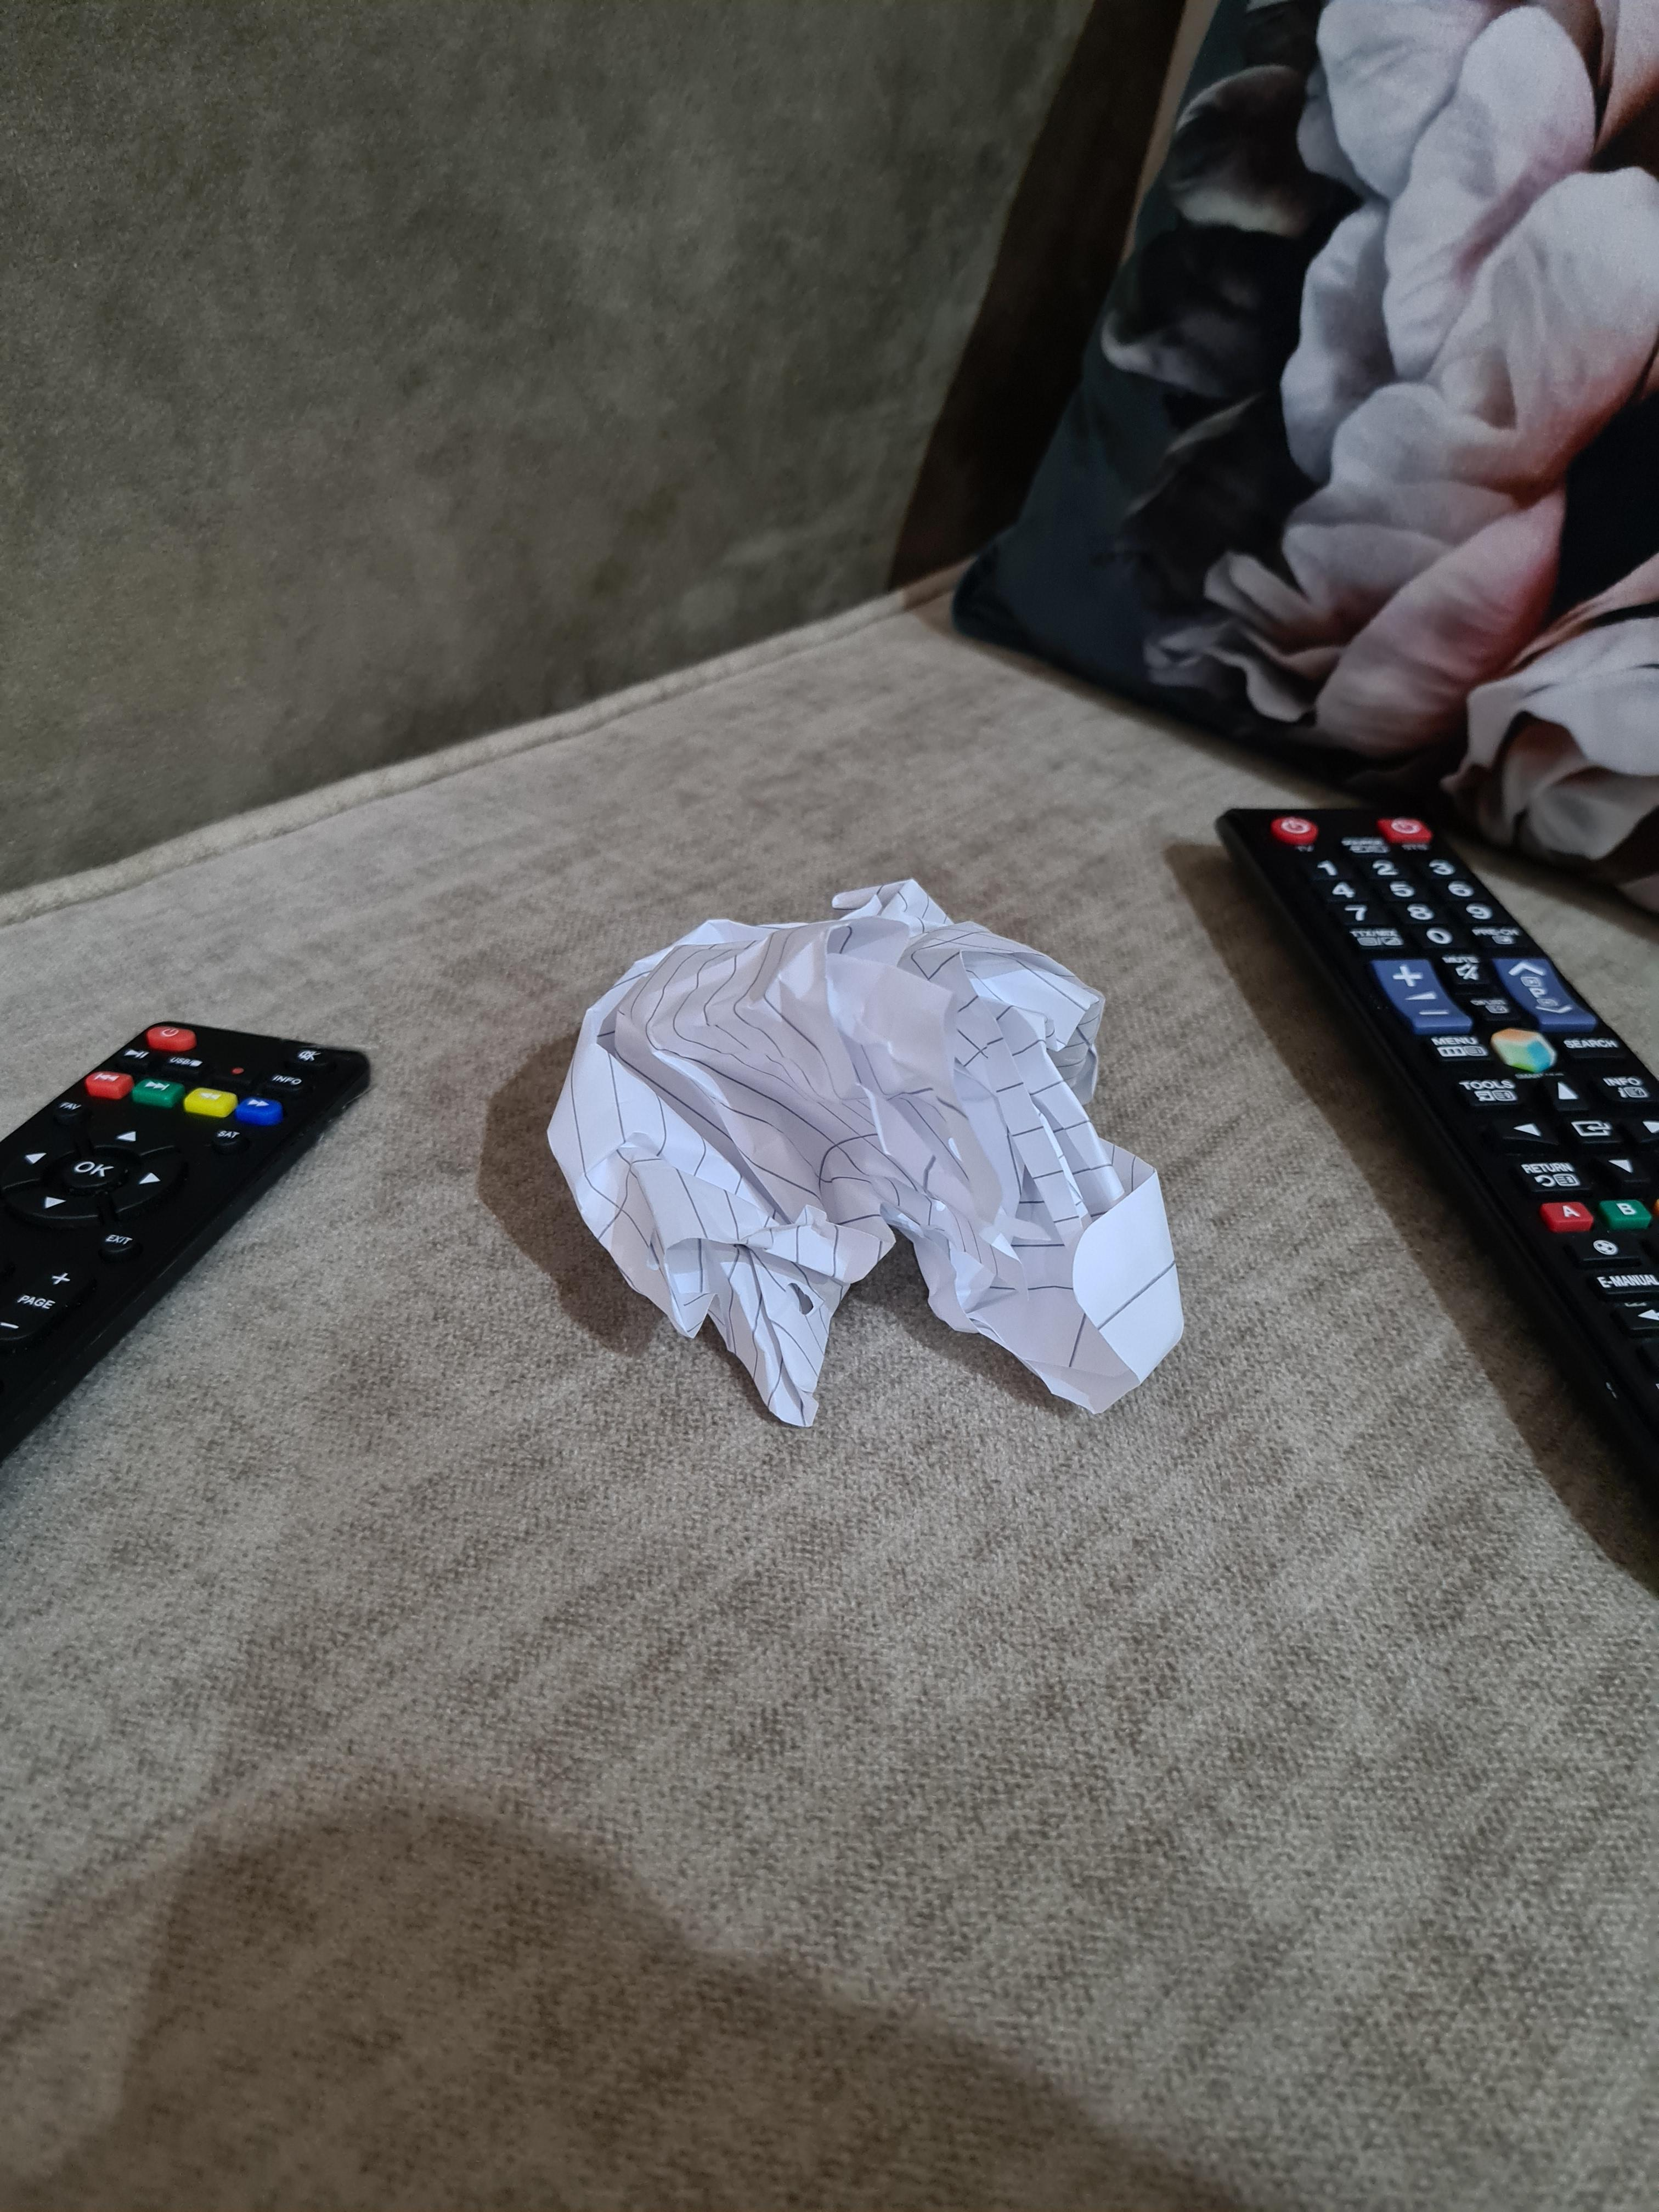Paper: (528, 890, 1193, 1444)
